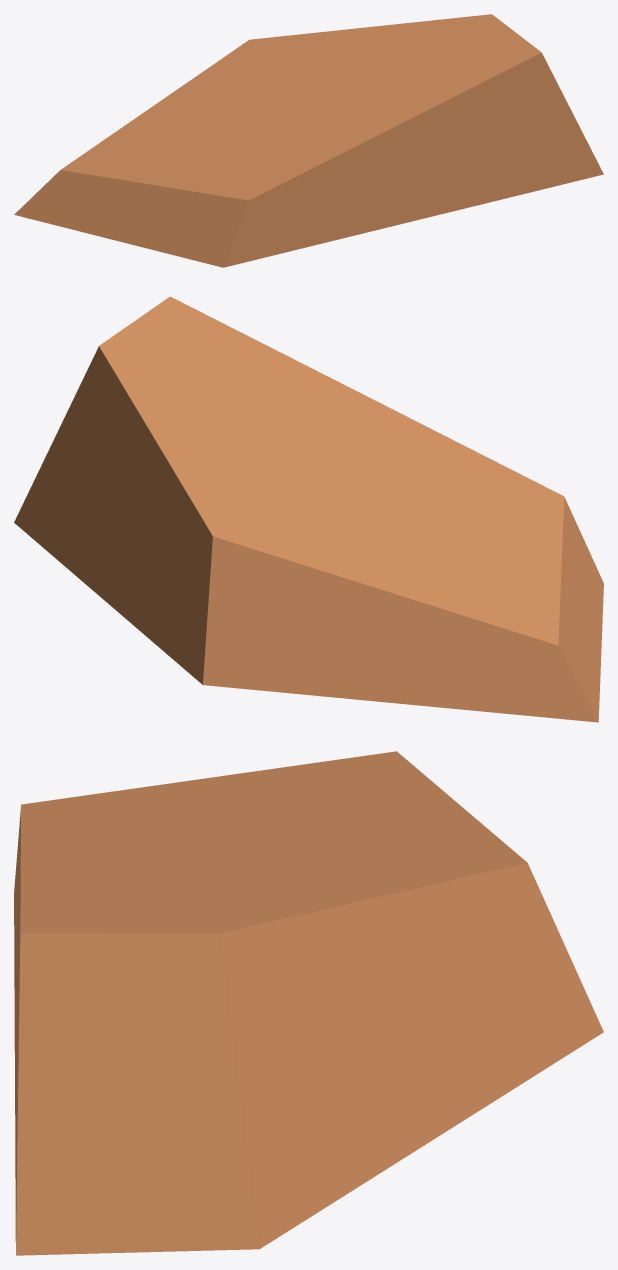
Rendered from rocksmall1.fbx.
3 renders of one model, top to bottom at view 1: azimuth 30°, elevation 25°; view 2: azimuth 150°, elevation 25°; view 3: azimuth 270°, elevation 25°, orthographic. The views are drawn at different scales.
Visible parts, largest first — view 1: rocksmall1; view 2: rocksmall1; view 3: rocksmall1.
Boxes of the visible parts, left/top/right/bottom form: rocksmall1: left=14, top=14, right=603, bottom=267; rocksmall1: left=14, top=296, right=603, bottom=722; rocksmall1: left=14, top=751, right=603, bottom=1255.
Bounding box in the file's own units: 82.4 × 22.21 × 44.7.
